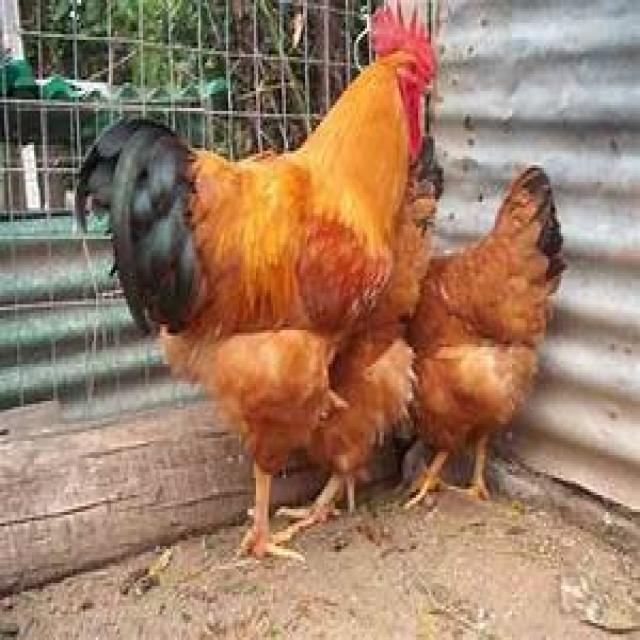animal: (72, 0, 437, 560), (399, 162, 567, 509)
